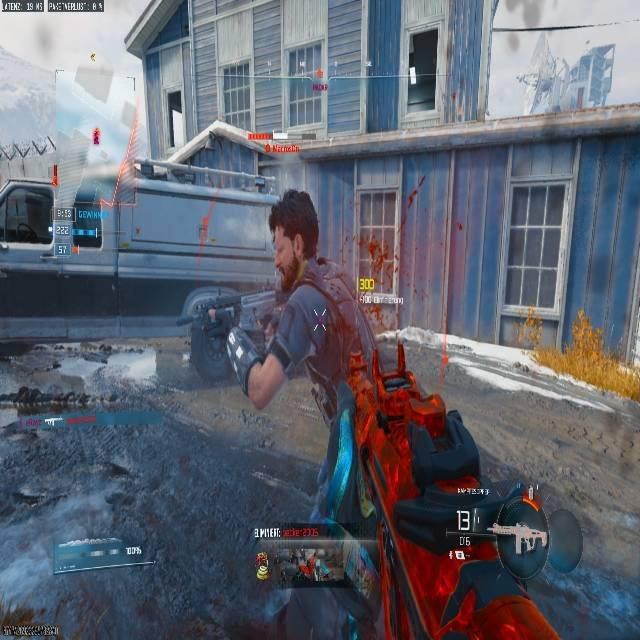head: (267, 189, 319, 265)
player: (237, 188, 539, 640), (173, 188, 377, 626), (244, 190, 379, 495)
